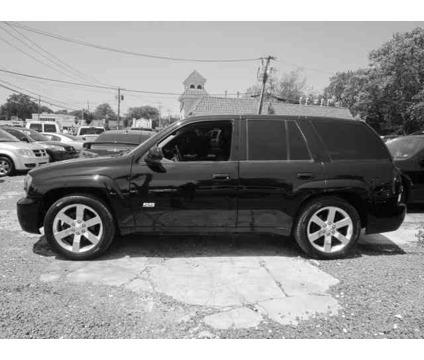car: (16, 113, 409, 263)
